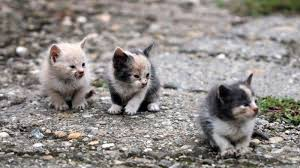cat: (195, 68, 263, 160), (34, 34, 99, 123), (103, 41, 167, 119)
